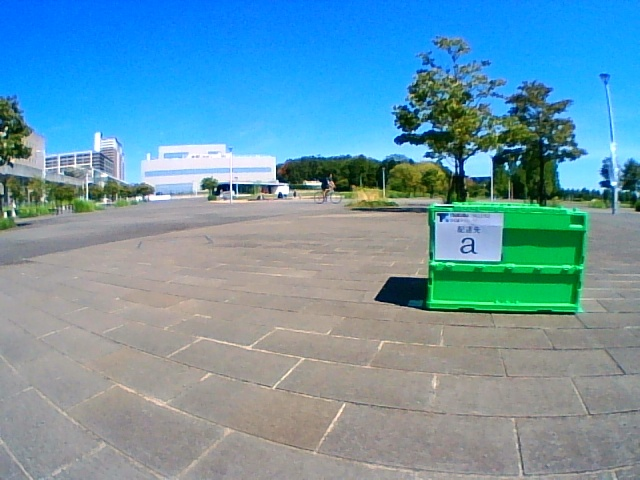green_box: (427, 202, 586, 312)
tag_a: (436, 213, 500, 260)
